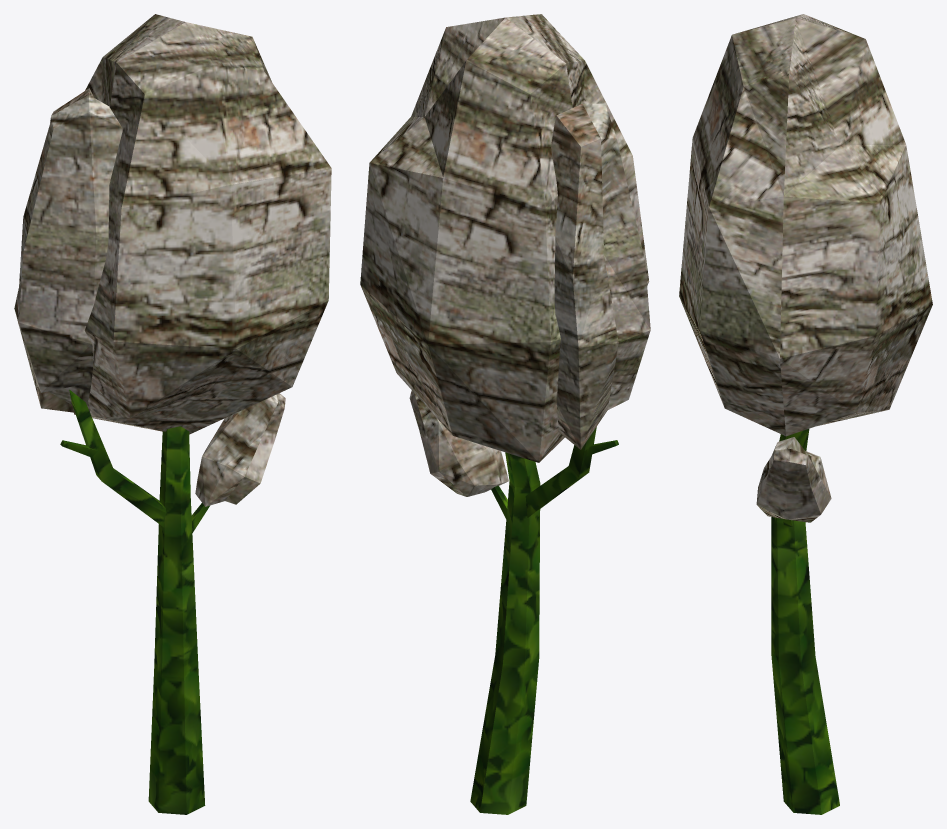
File: tree4.obj
The picture shows the model from 3 angles, left to right: view 1: azimuth 30°, elevation 25°; view 2: azimuth 150°, elevation 25°; view 3: azimuth 270°, elevation 25°; orthographic projection.
Visible parts, largest first — view 1: Tree_temp_climate_006_Mesh.005; view 2: Tree_temp_climate_006_Mesh.005; view 3: Tree_temp_climate_006_Mesh.005.
Part boxes in pixels (x1,y1,x2,y2): Tree_temp_climate_006_Mesh.005: (14, 14, 331, 814); Tree_temp_climate_006_Mesh.005: (360, 14, 650, 814); Tree_temp_climate_006_Mesh.005: (679, 14, 932, 814).
Bounding box in the file's own units: 2.49 × 6.48 × 1.9.
1 material, 1 textured.
